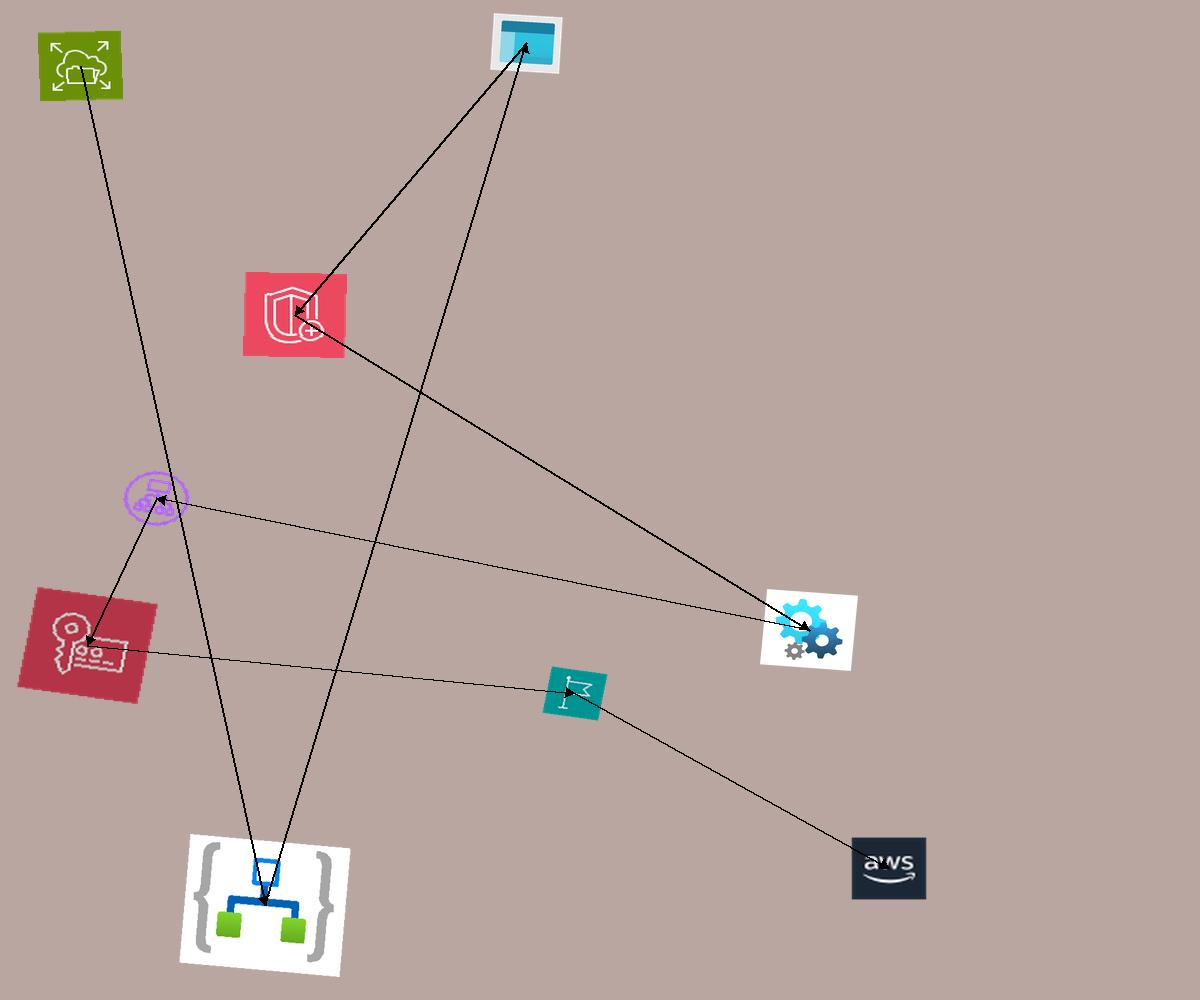AWS-Cloud-logo: (850, 836, 928, 901)
AWS-EFS: (37, 30, 124, 102)
AWS-Key-Management-Service: (16, 586, 159, 705)
AWS-Region: (542, 666, 608, 721)
AWS-Res_Elastic-Load-Balancing_Application-Load-Balancer: (114, 463, 199, 534)
AWS-Shield: (243, 272, 347, 358)
Azure_api: (760, 589, 858, 671)
Azure_integration-204-Logic-Apps: (179, 834, 351, 977)
Azure_management-portal: (490, 13, 563, 74)
